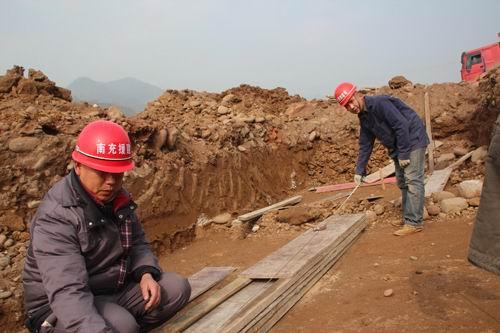helmet: (71, 120, 136, 176), (334, 82, 356, 107)
